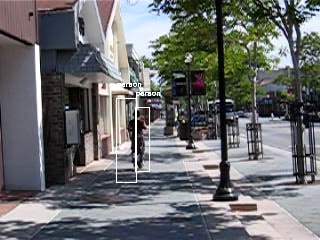person: (128, 111, 147, 172), (127, 111, 146, 172), (129, 111, 148, 172), (128, 110, 147, 171), (128, 112, 147, 173)
target_negative: (72, 88, 152, 172), (237, 20, 299, 120), (214, 130, 265, 209), (159, 177, 229, 198), (125, 105, 128, 234)
